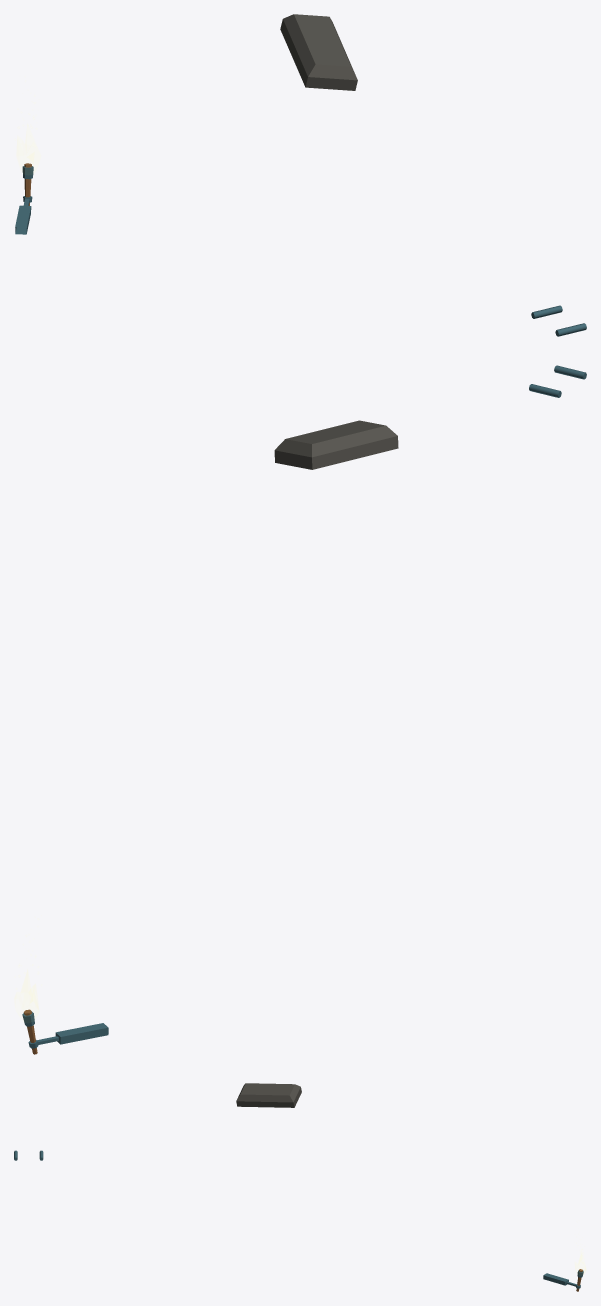
3 views of the same model, one above another, from view 1: azimuth 30°, elevation 25°; view 2: azimuth 150°, elevation 25°; view 3: azimuth 270°, elevation 25° (orthographic). The views are drawn at different scales.
Parts seen in each view (by area): view 1: Box607_wall_0, Cylinder1655_metal_0; view 2: Box607_wall_0, Cylinder1655_metal_0; view 3: Box607_wall_0.
Boxes of the visible parts, <box> form: Box607_wall_0: <box>280,14,357,90</box>; Cylinder1655_metal_0: <box>15,166,33,234</box>; Box607_wall_0: <box>274,420,398,469</box>; Cylinder1655_metal_0: <box>22,1011,108,1048</box>; Box607_wall_0: <box>236,1083,301,1107</box>.
Bounding box in the file's own units: 156 × 733 × 1836.
